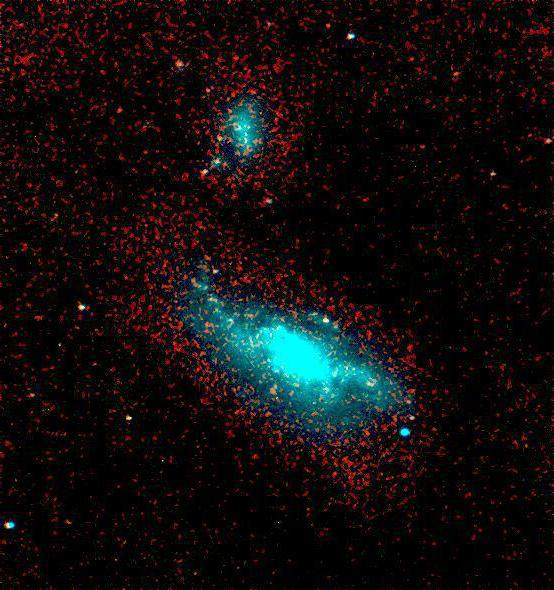star: (401, 406, 431, 436)
